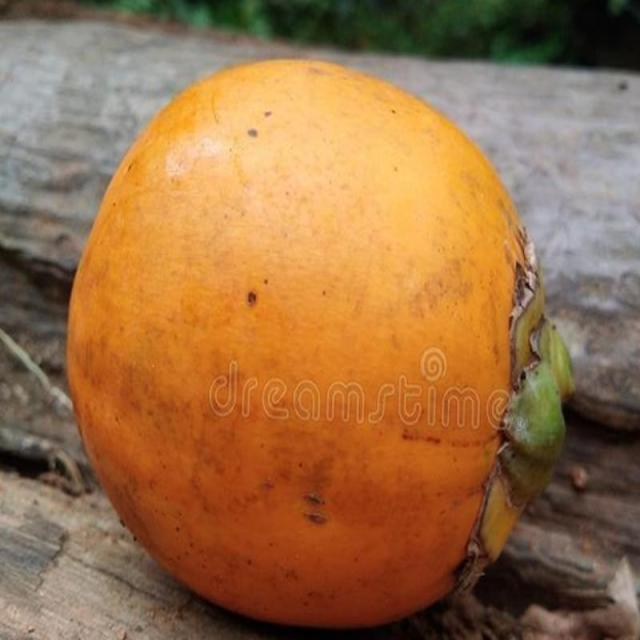good: (64, 60, 574, 634)
